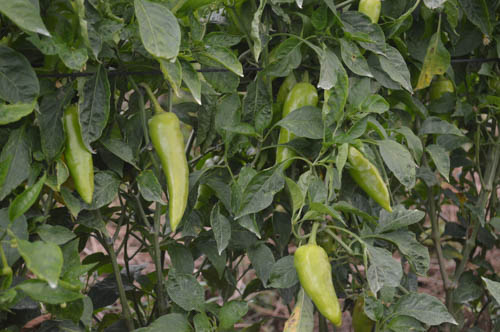ChiliPepper: (148, 113, 191, 230), (339, 141, 399, 217), (286, 244, 344, 319), (274, 83, 320, 173), (61, 105, 97, 204), (430, 69, 457, 122), (357, 1, 392, 29)
